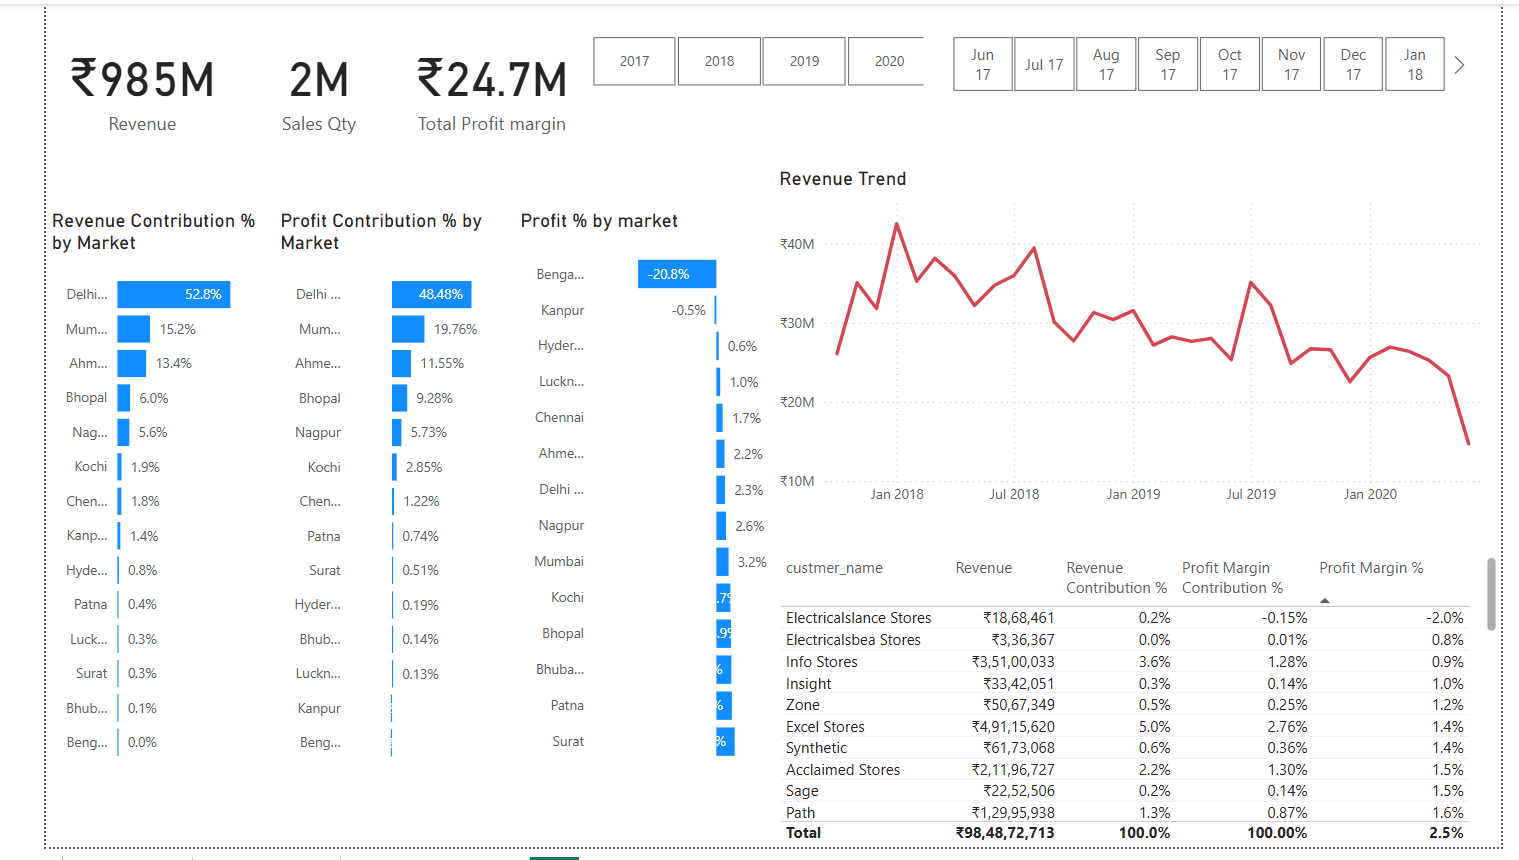

The dashboard page shown, as its layout file describes it:
{"tool":"powerbi","page":{"name":"Profit Analysis","canvas":[1280,720],"ordinal":1},"visuals":[{"type":"card","fields":{"Values":["Basemeasures.Revenue"]},"box":[0,5.8,169.8,90.7],"z":0},{"type":"card","fields":{"Values":["Basemeasures.Sales Qty"]},"box":[168.6,0,144.2,101.2],"z":1000},{"type":"barChart","title":"Profit % by market","fields":{"Y":["Basemeasures.Profit Margin %"],"Category":["sales markets.markets_name"]},"box":[402.1,157.8,227.8,499.5],"z":2000},{"type":"barChart","title":"Profit Contribution % by Market","fields":{"Y":["Basemeasures.Profit Margin Contribution %"],"Category":["sales markets.markets_name"]},"box":[186.6,157.8,215.4,499.5],"z":3000},{"type":"slicer","fields":{"Values":["sales date.year"]},"box":[455.6,0,347.2,56.3],"z":4000},{"type":"slicer","fields":{"Values":["sales date.cy_date"]},"box":[772.1,0,482.6,61.6],"z":5000},{"type":"tableEx","title":"Top 5 Customers","fields":{"Values":["sales customers.custmer_name","Basemeasures.Revenue","Basemeasures.Revenue Contribution %","Basemeasures.Profit Margin Contribution %","Basemeasures.Profit Margin %"]},"box":[639.5,459.7,640.8,260.7],"z":6000},{"type":"lineChart","title":"Revenue Trend","fields":{"Y":["Basemeasures.Revenue"],"Category":["sales date.cy_date"]},"box":[639.5,120.9,640.7,307],"z":8000},{"type":"card","fields":{"Values":["Basemeasures.Total Profit margin"]},"box":[312.8,0,160.5,101.2],"z":9000},{"type":"barChart","title":"Revenue Contribution % by Market","fields":{"Y":["Basemeasures.Revenue Contribution %"],"Category":["sales markets.markets_name"]},"box":[0,158.1,201.2,498.8],"z":10000}]}

Visuals, with their boxes in screenshot pixels (x1, y1, x2, y2), scaled from the page's 1280x720 canvas onto the 1519x860 screenshot:
card - Basemeasures.Revenue: [x1=0, y1=7, x2=202, y2=115]
card - Basemeasures.Sales Qty: [x1=200, y1=0, x2=371, y2=121]
"Profit % by market" barChart: [x1=477, y1=188, x2=748, y2=785]
"Profit Contribution % by Market" barChart: [x1=221, y1=188, x2=477, y2=785]
slicer - sales date.year: [x1=541, y1=0, x2=953, y2=67]
slicer - sales date.cy_date: [x1=916, y1=0, x2=1489, y2=74]
"Top 5 Customers" tableEx: [x1=759, y1=549, x2=1518, y2=859]
"Revenue Trend" lineChart: [x1=759, y1=144, x2=1518, y2=511]
card - Basemeasures.Total Profit margin: [x1=371, y1=0, x2=562, y2=121]
"Revenue Contribution % by Market" barChart: [x1=0, y1=189, x2=239, y2=785]
